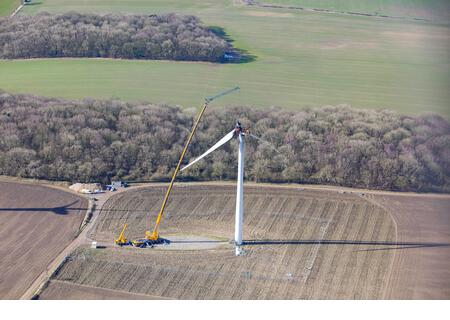faulty: (174, 120, 295, 189)
